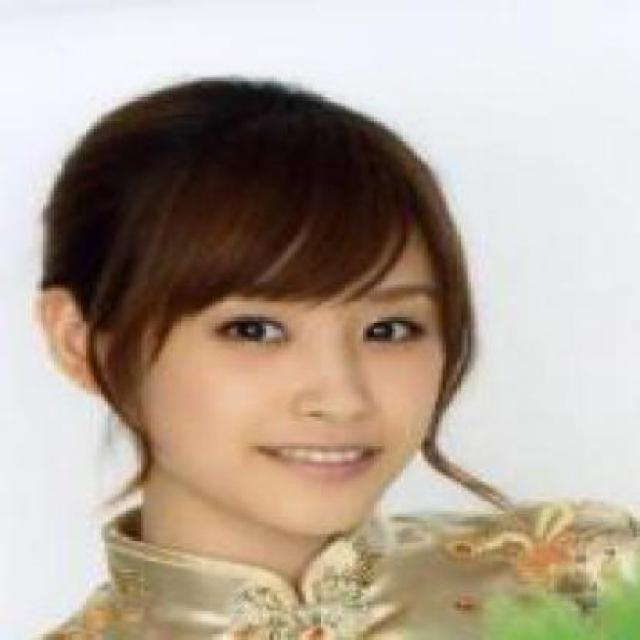closed-mouth: (253, 439, 382, 481)
